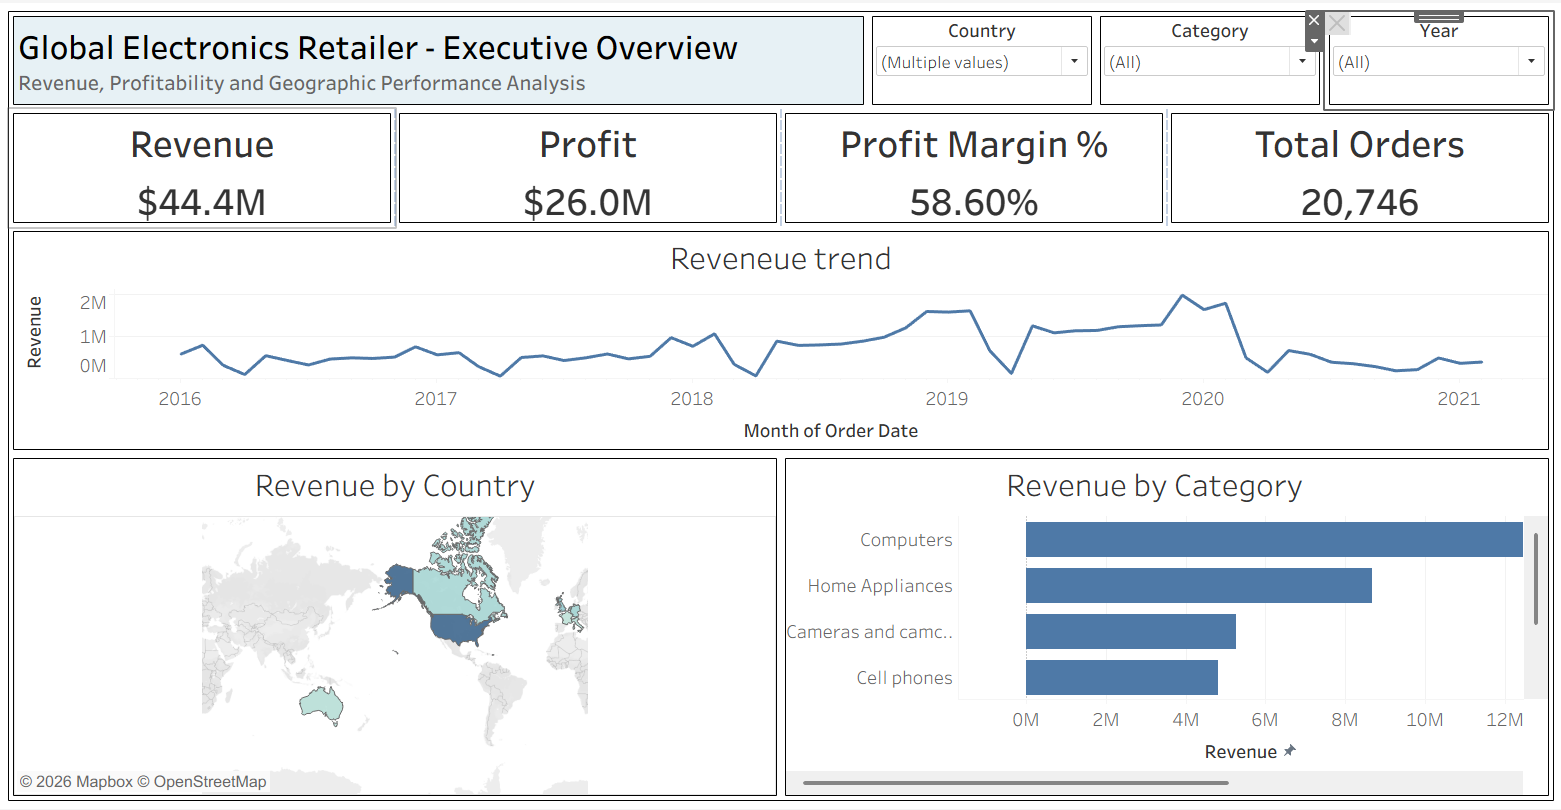

The page's visual inventory and layout, read from the dashboard file:
{"tool":"tableau","page":{"name":"Dashbaord1","canvas":[1000,1000],"units":"permille","ordinal":0},"visuals":[{"type":"dashboard-object","box":[847.8,9.9,17.6,29.8]},{"type":"text","box":[5.8,11.2,549.9,119.9]},{"type":"filter","title":"Revenue by Country Map","param":"[federated.02thb3i1gr9s941ego1r00bs9llb].[none:Country:nk]","box":[555.7,11.2,146.2,119.9]},{"type":"filter","title":"Revenue by Category","param":"[federated.02thb3i1gr9s941ego1r00bs9llb].[none:Category:nk]","box":[701.9,11.2,146.1,119.9]},{"type":"filter","title":"Reveneue trend","param":"[federated.02thb3i1gr9s941ego1r00bs9llb].[yr:Order Date:ok]","box":[848,11.2,146.2,119.9]},{"type":"worksheet","title":"KPI- Revenue","mark":"Automatic","box":[5.8,131.1,246.9,146.4]},{"type":"worksheet","title":"KPI - Profit","mark":"Automatic","box":[252.6,131.1,247.2,146.4]},{"type":"worksheet","title":"KPI - Profit Margin","mark":"Automatic","box":[499.9,131.1,247.1,146.4]},{"type":"worksheet","title":"KPI - Total Orders","mark":"Automatic","box":[746.9,131.1,247.3,146.4]},{"type":"worksheet","title":"Reveneue trend","mark":"Automatic","rows":["Calculation_1236136361050112"],"cols":["Order Date"],"box":[5.8,277.9,988.5,281.6]},{"type":"worksheet","title":"Revenue by Country Map","mark":"Automatic","box":[5.8,559.6,494.2,429.3]},{"type":"worksheet","title":"Revenue by Category","mark":"Automatic","rows":["Category"],"cols":["Calculation_1236136361050112"],"box":[500,559.6,494.2,429.3]}]}

Visuals, with their boxes on the dashboard's canvas, which has no fixed pixel size, in thousandths of its width and height (x1, y1, x2, y2). These are canvas units, not pixel positions in the 1561x810 screenshot, which may show the page scaled, cropped or inside an application window:
dashboard-object: <box>848,10,865,40</box>
text: <box>6,11,556,131</box>
"Revenue by Country Map" filter: <box>556,11,702,131</box>
"Revenue by Category" filter: <box>702,11,848,131</box>
"Reveneue trend" filter: <box>848,11,994,131</box>
"KPI- Revenue" worksheet: <box>6,131,253,278</box>
"KPI - Profit" worksheet: <box>253,131,500,278</box>
"KPI - Profit Margin" worksheet: <box>500,131,747,278</box>
"KPI - Total Orders" worksheet: <box>747,131,994,278</box>
"Reveneue trend" worksheet: <box>6,278,994,560</box>
"Revenue by Country Map" worksheet: <box>6,560,500,989</box>
"Revenue by Category" worksheet: <box>500,560,994,989</box>
